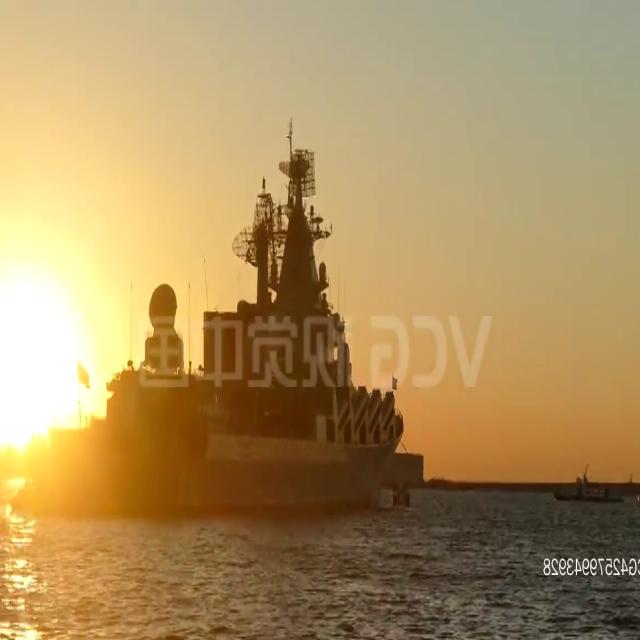cargoship: (553, 469, 626, 505)
navalvessels: (16, 134, 402, 517)
